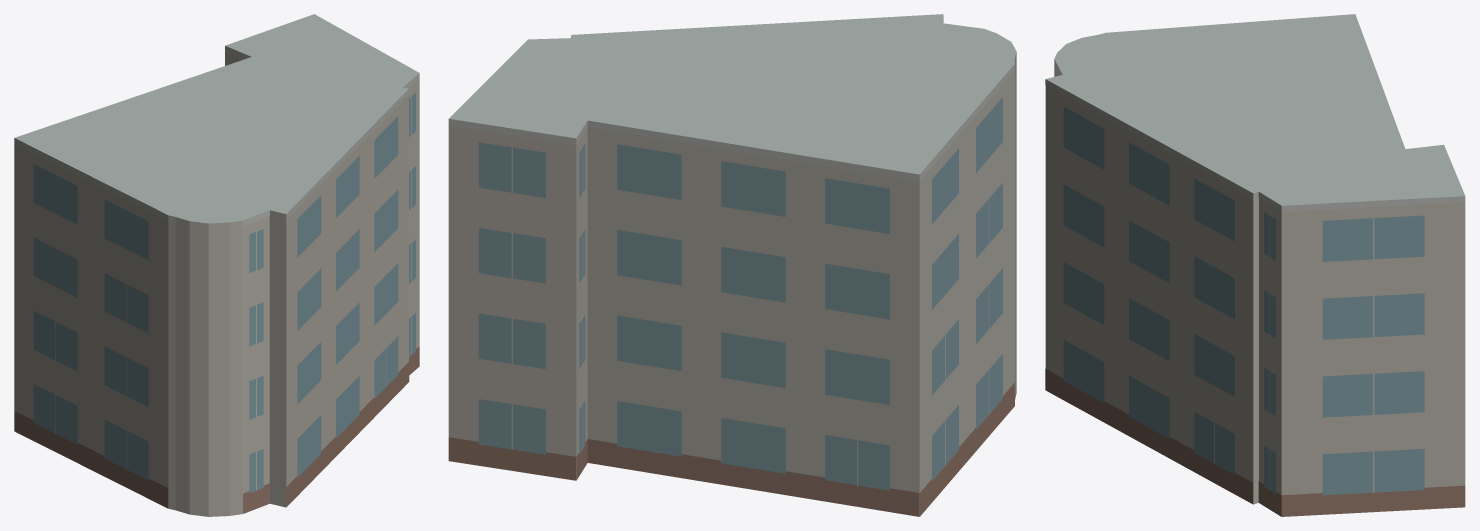
Rendered from survey-upis-32821183.glb.
The picture shows the model from 3 angles, left to right: view 1: azimuth 30°, elevation 25°; view 2: azimuth 150°, elevation 25°; view 3: azimuth 270°, elevation 25°; orthographic projection. The views are drawn at different scales.
Parts seen in each view (by area): view 1: survey-upis-32821183.tmp; view 2: survey-upis-32821183.tmp; view 3: survey-upis-32821183.tmp.
Part boxes in pixels (x1=…): survey-upis-32821183.tmp: x1=14, y1=14, x2=419, y2=516; survey-upis-32821183.tmp: x1=448, y1=14, x2=1016, y2=516; survey-upis-32821183.tmp: x1=1045, y1=14, x2=1465, y2=516.
Size of the model in its own units: 16.42 by 12.42 by 15.2.
